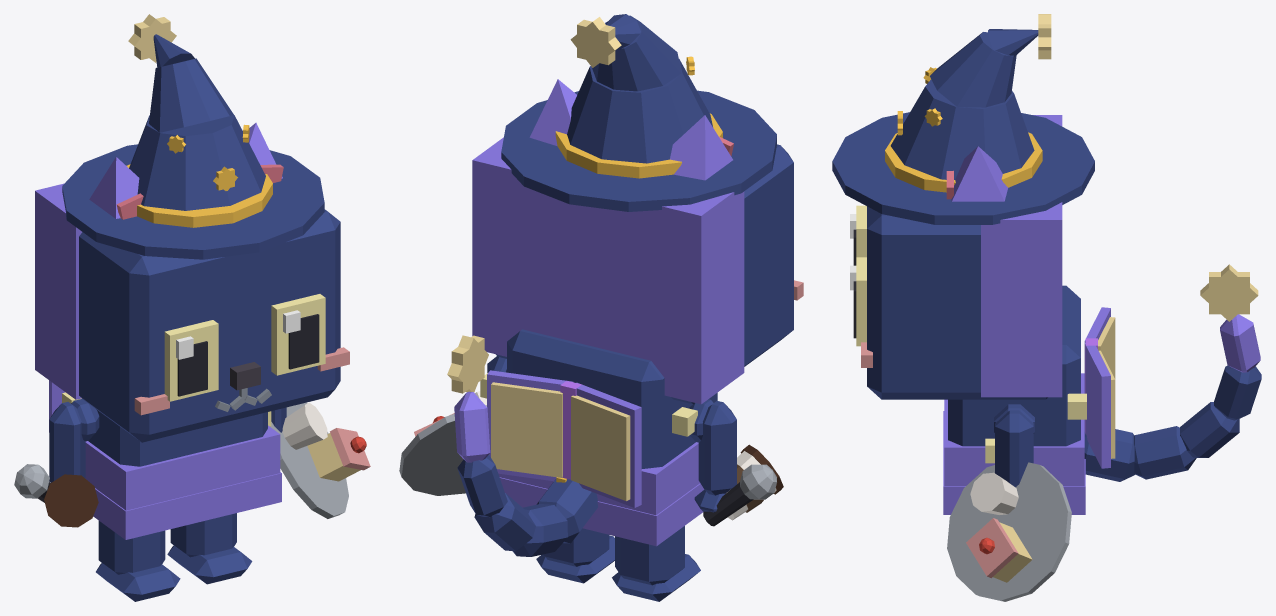
File: CatCafe_Cat_Mage_Work.fbx
The picture shows the model from 3 angles, left to right: view 1: azimuth 30°, elevation 25°; view 2: azimuth 150°, elevation 25°; view 3: azimuth 270°, elevation 25°; orthographic projection. The views are drawn at different scales.
Parts seen in each view (by area): view 1: CatCafe_Cat_Mage_Work_Head, CatCafe_Cat_Mage_Work_Prop, CatCafe_Cat_Mage_Work_Body, CatCafe_Cat_Mage_Work_Held_Waiter, CatCafe_Cat_Mage_Work_LegB2, CatCafe_Cat_Mage_Work_Eye1, CatCafe_Cat_Mage_Work_LegB1, CatCafe_Cat_Mage_Work_Eye2, CatCafe_Cat_Mage_Work_LegF2, CatCafe_Cat_Mage_Work_Held_Barista, CatCafe_Cat_Mage_Work_EarR, CatCafe_Cat_Mage_Work_Star_Glow (+2 smaller); view 2: CatCafe_Cat_Mage_Work_Head, CatCafe_Cat_Mage_Work_Prop, CatCafe_Cat_Mage_Work_Body, CatCafe_Cat_Mage_Work_Page_Glow, CatCafe_Cat_Mage_Work_Tail, CatCafe_Cat_Mage_Work_Prop2, CatCafe_Cat_Mage_Work_LegB2, CatCafe_Cat_Mage_Work_Held_Waiter, CatCafe_Cat_Mage_Work_LegF2, CatCafe_Cat_Mage_Work_LegB1, CatCafe_Cat_Mage_Work_EarR, CatCafe_Cat_Mage_Work_Held_Entertainer (+4 smaller); view 3: CatCafe_Cat_Mage_Work_Head, CatCafe_Cat_Mage_Work_Prop, CatCafe_Cat_Mage_Work_Held_Waiter, CatCafe_Cat_Mage_Work_Body, CatCafe_Cat_Mage_Work_Tail, CatCafe_Cat_Mage_Work_Prop2, CatCafe_Cat_Mage_Work_EarL, CatCafe_Cat_Mage_Work_LegF1, CatCafe_Cat_Mage_Work_Tail_Star_Glow, CatCafe_Cat_Mage_Work_Eye1, CatCafe_Cat_Mage_Work_Page_Glow, CatCafe_Cat_Mage_Work_Eye2 (+1 smaller).
Boxes of the visible parts, x1=… form: CatCafe_Cat_Mage_Work_Head: x1=35, y1=183, x2=349, y2=442; CatCafe_Cat_Mage_Work_Prop: x1=62, y1=34, x2=324, y2=259; CatCafe_Cat_Mage_Work_Body: x1=62, y1=392, x2=281, y2=539; CatCafe_Cat_Mage_Work_Held_Waiter: x1=270, y1=402, x2=370, y2=518; CatCafe_Cat_Mage_Work_LegB2: x1=96, y1=521, x2=180, y2=601; CatCafe_Cat_Mage_Work_Eye1: x1=271, y1=294, x2=325, y2=375; CatCafe_Cat_Mage_Work_LegB1: x1=167, y1=513, x2=252, y2=584; CatCafe_Cat_Mage_Work_Eye2: x1=164, y1=320, x2=218, y2=401; CatCafe_Cat_Mage_Work_LegF2: x1=49, y1=402, x2=85, y2=482; CatCafe_Cat_Mage_Work_Held_Barista: x1=44, y1=474, x2=98, y2=527; CatCafe_Cat_Mage_Work_EarR: x1=89, y1=157, x2=143, y2=219; CatCafe_Cat_Mage_Work_Star_Glow: x1=128, y1=14, x2=176, y2=62; CatCafe_Cat_Mage_Work_Head: x1=472, y1=137, x2=803, y2=404; CatCafe_Cat_Mage_Work_Prop: x1=501, y1=14, x2=776, y2=211; CatCafe_Cat_Mage_Work_Body: x1=480, y1=329, x2=717, y2=546; CatCafe_Cat_Mage_Work_Page_Glow: x1=491, y1=382, x2=630, y2=501; CatCafe_Cat_Mage_Work_Tail: x1=454, y1=391, x2=597, y2=556; CatCafe_Cat_Mage_Work_Prop2: x1=487, y1=370, x2=641, y2=507; CatCafe_Cat_Mage_Work_LegB2: x1=612, y1=526, x2=700, y2=601; CatCafe_Cat_Mage_Work_Held_Waiter: x1=399, y1=391, x2=486, y2=495; CatCafe_Cat_Mage_Work_LegF2: x1=694, y1=401, x2=736, y2=512; CatCafe_Cat_Mage_Work_LegB1: x1=536, y1=528, x2=614, y2=583; CatCafe_Cat_Mage_Work_EarR: x1=670, y1=115, x2=733, y2=180; CatCafe_Cat_Mage_Work_Held_Entertainer: x1=703, y1=464, x2=776, y2=526; CatCafe_Cat_Mage_Work_Head: x1=861, y1=115, x2=1062, y2=399; CatCafe_Cat_Mage_Work_Prop: x1=832, y1=29, x2=1094, y2=224; CatCafe_Cat_Mage_Work_Held_Waiter: x1=947, y1=462, x2=1071, y2=601; CatCafe_Cat_Mage_Work_Body: x1=943, y1=285, x2=1086, y2=514; CatCafe_Cat_Mage_Work_Tail: x1=1084, y1=314, x2=1261, y2=481; CatCafe_Cat_Mage_Work_Prop2: x1=1084, y1=307, x2=1110, y2=468; CatCafe_Cat_Mage_Work_EarL: x1=946, y1=146, x2=1007, y2=201; CatCafe_Cat_Mage_Work_LegF1: x1=995, y1=410, x2=1033, y2=487; CatCafe_Cat_Mage_Work_Tail_Star_Glow: x1=1200, y1=264, x2=1258, y2=321; CatCafe_Cat_Mage_Work_Eye1: x1=850, y1=257, x2=866, y2=346; CatCafe_Cat_Mage_Work_Page_Glow: x1=1098, y1=317, x2=1115, y2=458; CatCafe_Cat_Mage_Work_Eye2: x1=850, y1=205, x2=866, y2=265.
Bounding box in the file's own units: 1.53 × 2.35 × 1.69.
1 material, 1 textured.
